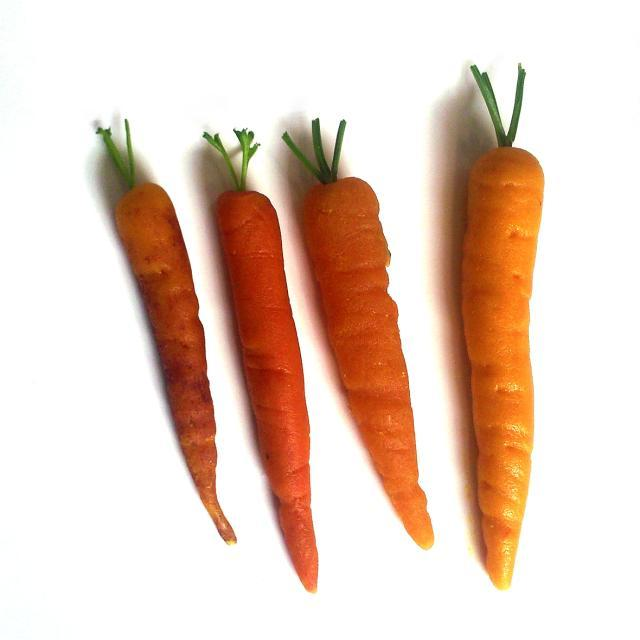carrot: (300, 179, 435, 551), (112, 180, 235, 545), (213, 191, 317, 592), (459, 147, 546, 594)
